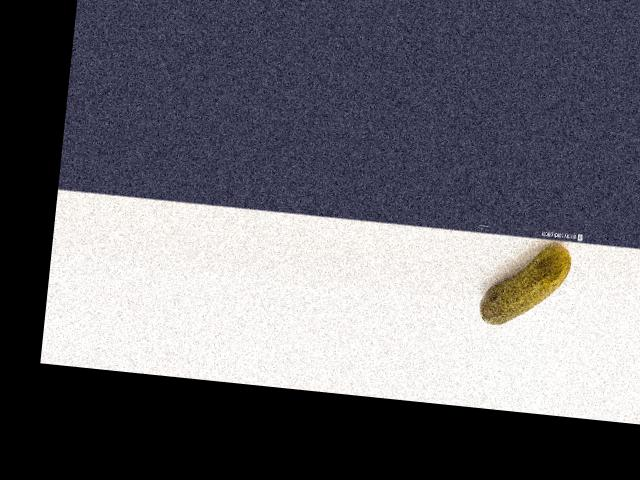cucumber: (477, 237, 572, 331)
